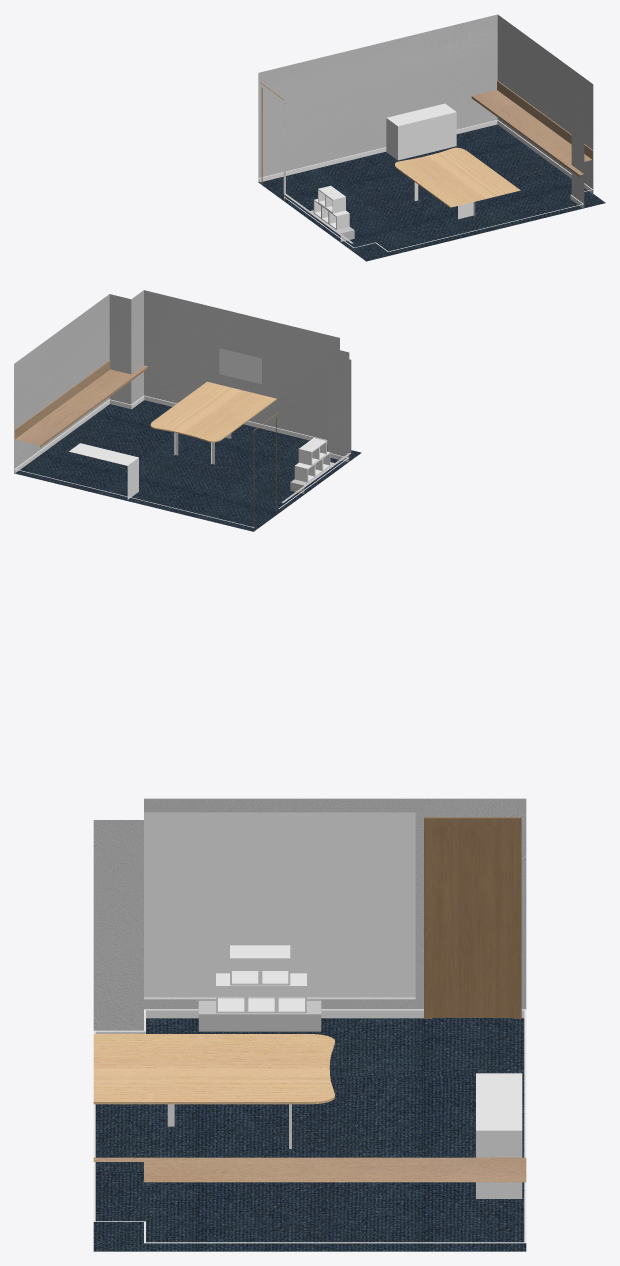
3 views of the same model, one above another, from view 1: azimuth 30°, elevation 25°; view 2: azimuth 150°, elevation 25°; view 3: azimuth 270°, elevation 25° (orthographic). The views are drawn at different scales.
Visible parts, largest first — view 1: Parede1, Chao, Parede2, Mesa, Bancada, Armario, roda pe, Parede3, Parede4, Cubo 9, Cubo 5, Mesa pes; view 2: Chao, Parede3, Parede2, Mesa, Bancada, Parede4, roda pe, Plane, Armario, Cubo 8, Cubo 7, Porta; view 3: Chao, Janela, Porta, Mesa, Parede4, Parede3, Bancada, Armario, roda pe, Base Cubos, Cubo 8, Cubo 9.
Boxes of the visible parts, x1,y1,x2,y2 form: Parede1: [258, 14, 497, 182]; Chao: [258, 124, 605, 261]; Parede2: [497, 14, 593, 193]; Mesa: [395, 147, 520, 208]; Bancada: [471, 80, 592, 177]; Armario: [386, 103, 456, 160]; roda pe: [258, 120, 592, 251]; Parede3: [571, 90, 584, 207]; Parede4: [283, 100, 353, 243]; Cubo 9: [325, 191, 345, 213]; Cubo 5: [329, 210, 349, 229]; Mesa pes: [414, 182, 475, 219]; Chao: [14, 400, 361, 531]; Parede3: [131, 290, 339, 439]; Parede2: [14, 294, 131, 472]; Mesa: [150, 381, 276, 442]; Bancada: [14, 360, 148, 447]; Parede4: [281, 347, 351, 502]; roda pe: [14, 395, 348, 527]; Plane: [219, 348, 261, 384]; Armario: [69, 443, 138, 499]; Cubo 8: [298, 443, 319, 465]; Cubo 7: [294, 462, 315, 482]; Porta: [253, 412, 278, 530]; Chao: [93, 1018, 526, 1251]; Janela: [144, 812, 415, 997]; Porta: [424, 817, 521, 1018]; Mesa: [93, 1034, 334, 1104]; Parede4: [144, 798, 526, 1009]; Parede3: [93, 820, 143, 1030]; Bancada: [93, 1157, 526, 1182]; Armario: [476, 1073, 522, 1198]; roda pe: [93, 1009, 526, 1243]; Base Cubos: [198, 1000, 321, 1031]; Cubo 8: [260, 945, 290, 985]; Cubo 9: [230, 945, 260, 985].
Bounding box in the file's own units: 11.1 × 2.4 × 4.3.
Materials: 13 (5 with a texture image).
